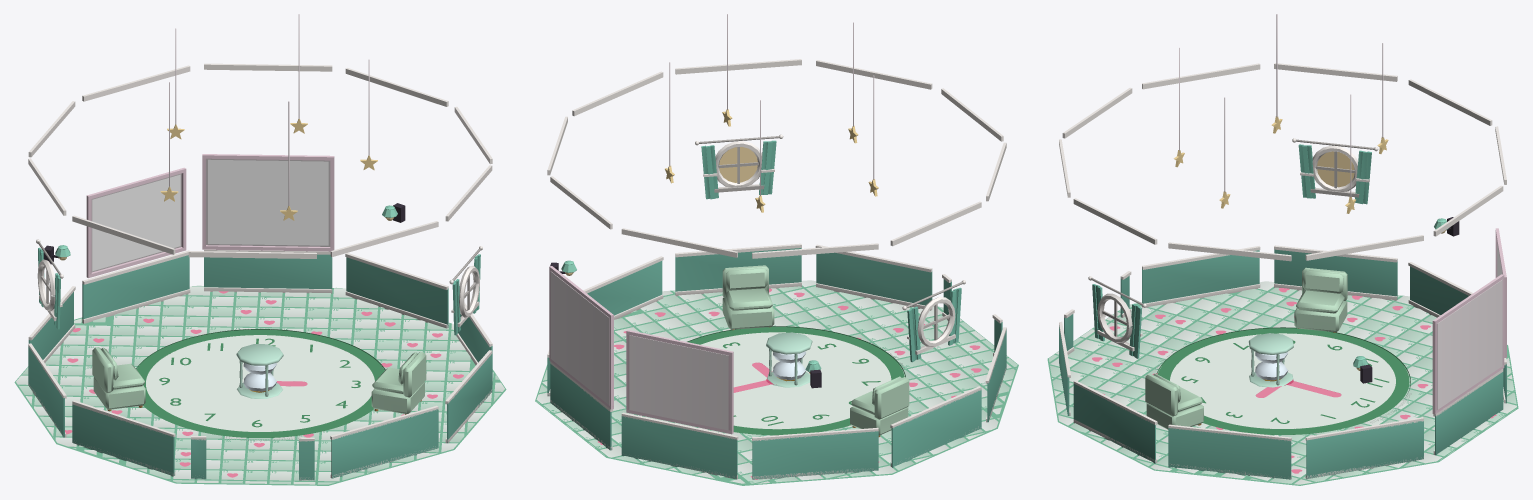
The model's file is zon_room_calendar_lite.glb.
3 views of the same model, side by side, from view 1: azimuth 30°, elevation 25°; view 2: azimuth 150°, elevation 25°; view 3: azimuth 270°, elevation 25° (orthographic).
Parts seen in each view (by area): view 1: SM_zon_room_calendar_lite_room_floor_plaster_x0_zm1, SM_zon_room_calendar_lite_room_floor_glaze_x0_zm1, SM_zon_room_calendar_lite_room_rug_fabric_x0_zm1, SCREEN_fur_screen_calendar_dates__0, SCREEN_fur_screen_calendar_love__0, SM_zon_room_calendar_lite_room_floor_fabric_x0_zm1, ANIM_fur_hourglass_calendar_lite_glass__0, SM_zon_room_calendar_lite_room_floor_gloss_x0_zm1; view 2: SM_zon_room_calendar_lite_room_floor_plaster_x0_zm1, SM_zon_room_calendar_lite_room_floor_glaze_x0_zm1, SM_zon_room_calendar_lite_room_rug_fabric_x0_zm1, SM_zon_room_calendar_lite_room_floor_fabric_x0_zm1, ANIM_fur_hourglass_calendar_lite_glass__0, SM_zon_room_calendar_lite_glow_vc_x0_zm1, SM_zon_room_calendar_lite_room_floor_gloss_x0_zm1; view 3: SM_zon_room_calendar_lite_room_floor_plaster_x0_zm1, SM_zon_room_calendar_lite_room_floor_glaze_x0_zm1, SM_zon_room_calendar_lite_room_rug_fabric_x0_zm1, SM_zon_room_calendar_lite_room_floor_fabric_x0_zm1, ANIM_fur_hourglass_calendar_lite_glass__0, SM_zon_room_calendar_lite_glow_vc_x0_zm1, SM_zon_room_calendar_lite_room_floor_gloss_x0_zm1.
Part boxes in pixels (left/top/right/bottom): SM_zon_room_calendar_lite_room_floor_plaster_x0_zm1: left=28, top=14, right=492, bottom=481; SM_zon_room_calendar_lite_room_floor_glaze_x0_zm1: left=14, top=285, right=506, bottom=485; SM_zon_room_calendar_lite_room_rug_fabric_x0_zm1: left=136, top=328, right=385, bottom=441; SCREEN_fur_screen_calendar_dates__0: left=208, top=159, right=328, bottom=245; SCREEN_fur_screen_calendar_love__0: left=92, top=174, right=180, bottom=271; SM_zon_room_calendar_lite_room_floor_fabric_x0_zm1: left=92, top=347, right=426, bottom=413; ANIM_fur_hourglass_calendar_lite_glass__0: left=236, top=344, right=283, bottom=398; SM_zon_room_calendar_lite_room_floor_gloss_x0_zm1: left=65, top=291, right=463, bottom=477; SM_zon_room_calendar_lite_room_floor_plaster_x0_zm1: left=547, top=14, right=1006, bottom=479; SM_zon_room_calendar_lite_room_floor_glaze_x0_zm1: left=535, top=280, right=1018, bottom=485; SM_zon_room_calendar_lite_room_rug_fabric_x0_zm1: left=687, top=326, right=906, bottom=435; SM_zon_room_calendar_lite_room_floor_fabric_x0_zm1: left=722, top=265, right=909, bottom=435; ANIM_fur_hourglass_calendar_lite_glass__0: left=766, top=332, right=812, bottom=387; SM_zon_room_calendar_lite_glow_vc_x0_zm1: left=565, top=147, right=810, bottom=373; SM_zon_room_calendar_lite_room_floor_gloss_x0_zm1: left=598, top=288, right=981, bottom=479; SM_zon_room_calendar_lite_room_floor_plaster_x0_zm1: left=1059, top=14, right=1506, bottom=479; SM_zon_room_calendar_lite_room_floor_glaze_x0_zm1: left=1047, top=281, right=1518, bottom=485; SM_zon_room_calendar_lite_room_rug_fabric_x0_zm1: left=1155, top=327, right=1411, bottom=434; SM_zon_room_calendar_lite_room_floor_fabric_x0_zm1: left=1145, top=267, right=1347, bottom=429; ANIM_fur_hourglass_calendar_lite_glass__0: left=1248, top=333, right=1293, bottom=387; SM_zon_room_calendar_lite_glow_vc_x0_zm1: left=1317, top=151, right=1446, bottom=370; SM_zon_room_calendar_lite_room_floor_gloss_x0_zm1: left=1092, top=288, right=1496, bottom=473.
Size of the model in its own units: 10.57 by 7.83 by 10.29.
